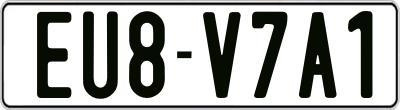1: (348, 8, 372, 96)
7: (250, 10, 286, 100)
8: (126, 10, 164, 101)
A: (297, 11, 339, 97)
E: (36, 12, 75, 103)
U: (81, 10, 122, 103)
V: (203, 9, 241, 98)
